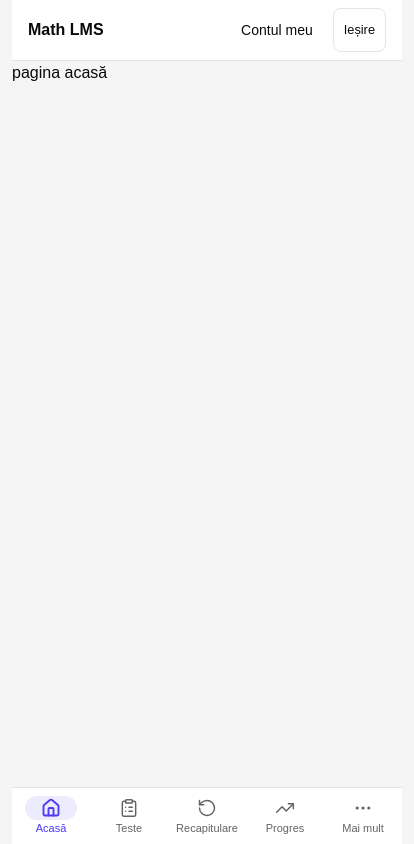
Scenario: AppShell › on a phone: the tab bar at the bottom › closes "Mai mult" on Escape and after a page is picked from it
The width and height of the screenshot is (414, 844).
Click the button "Mai mult" at (363, 816), box [324,788,402,843]
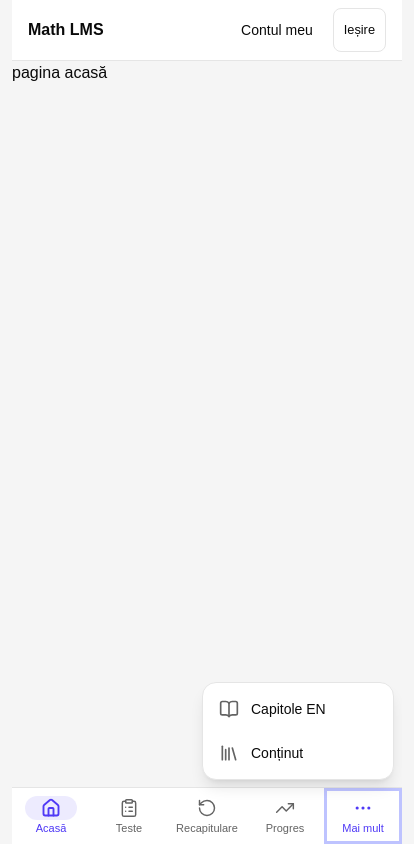
Press Escape
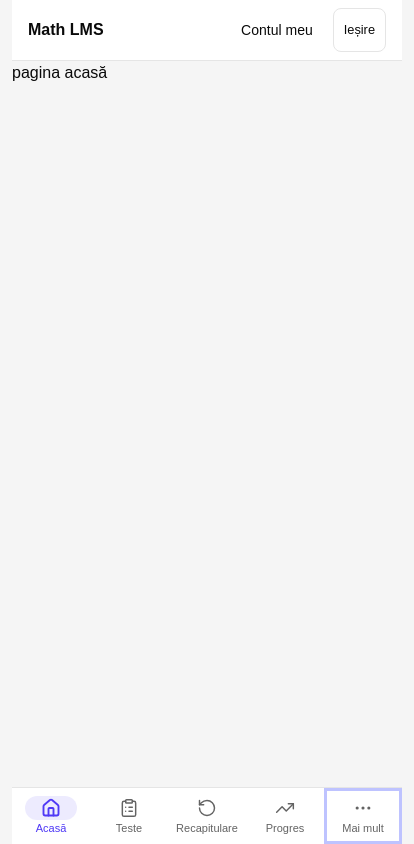
Expected: the button "Mai mult" is collapsed
Click the button "Mai mult" at (363, 816), box [324,788,402,843]
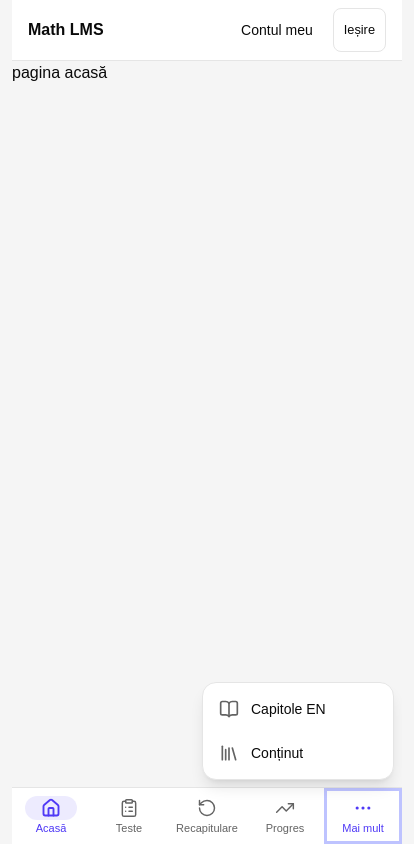
Click the link "Conținut" at (261, 753), box [219,743,303,763]
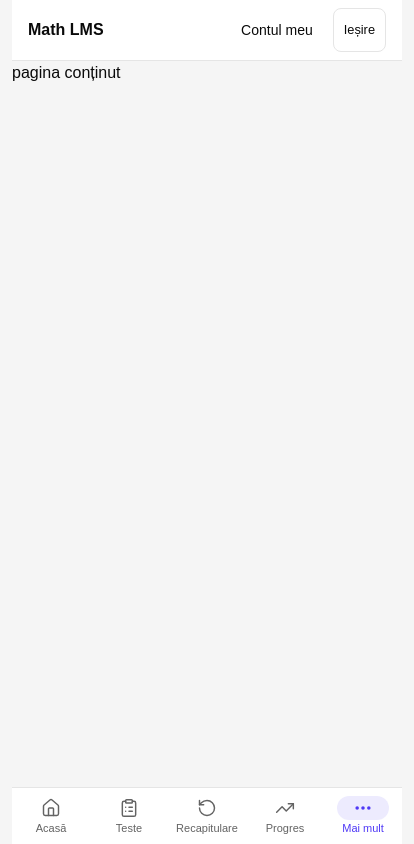
Expected: the text "pagina conținut" is shown, [12,64,120,81]
Expected: the button "Mai mult" is collapsed, [324,788,402,843]
